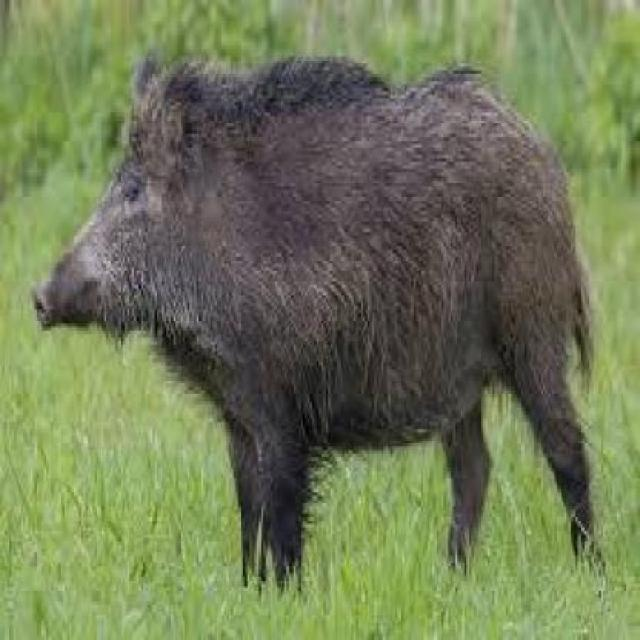wildboar: (28, 38, 618, 604)
